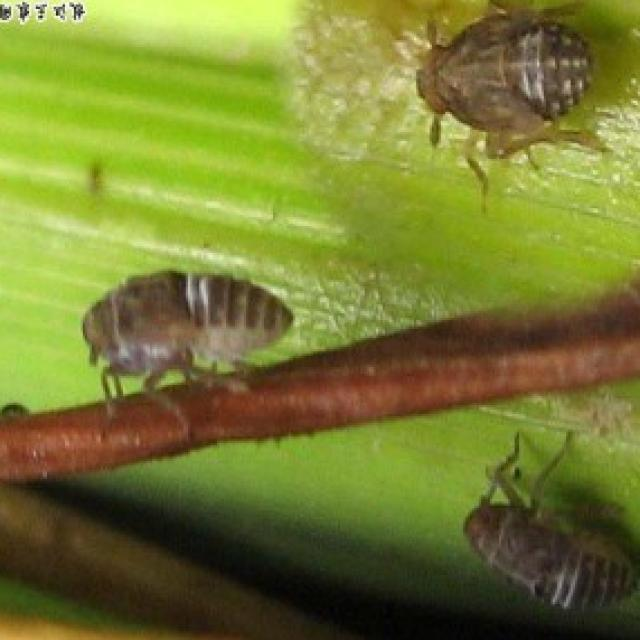brown plant hopper: (81, 273, 291, 439), (465, 434, 638, 611), (418, 0, 604, 161)
